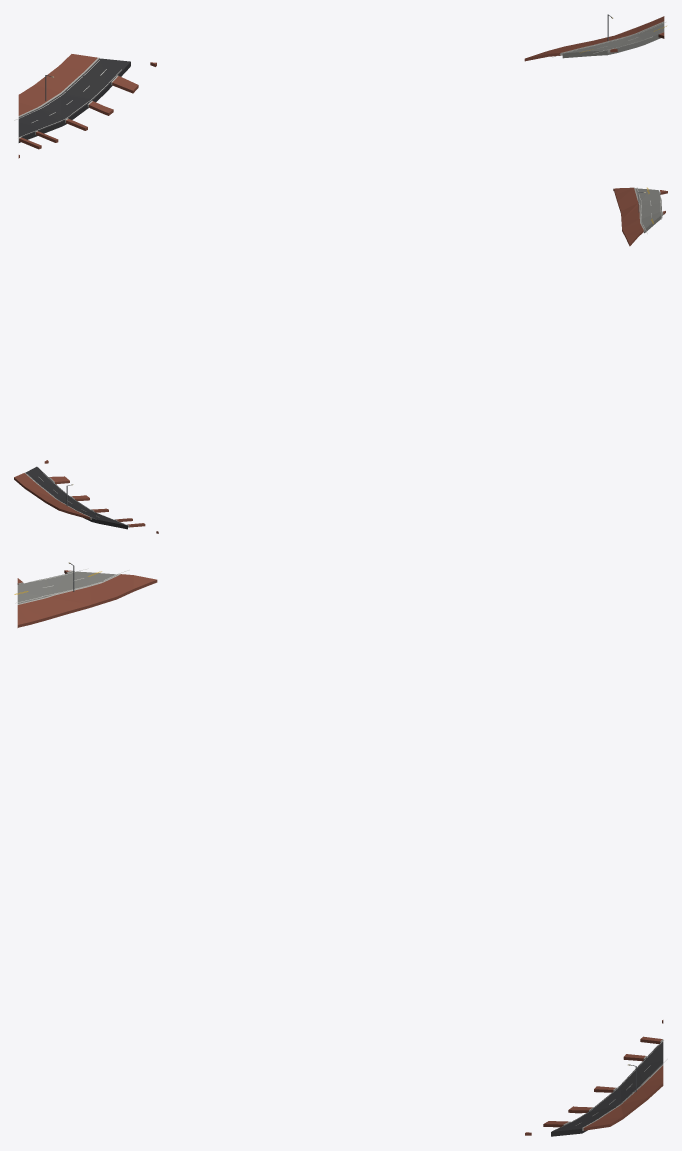
3 views of the same model, one above another, from view 1: azimuth 90°, elevation 25°; view 2: azimuth 150°, elevation 25°; view 3: azimuth 270°, elevation 25° (orthographic). The views are drawn at different scales.
Size of the model in its own units: 149 by 80.33 by 148.
